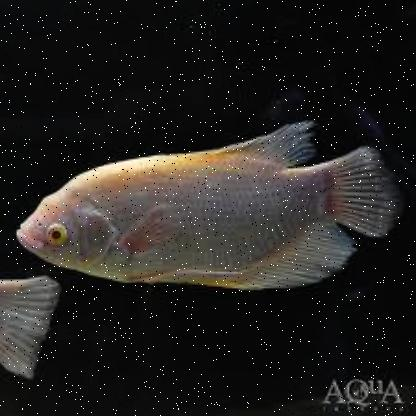gurame: (17, 126, 398, 288)
